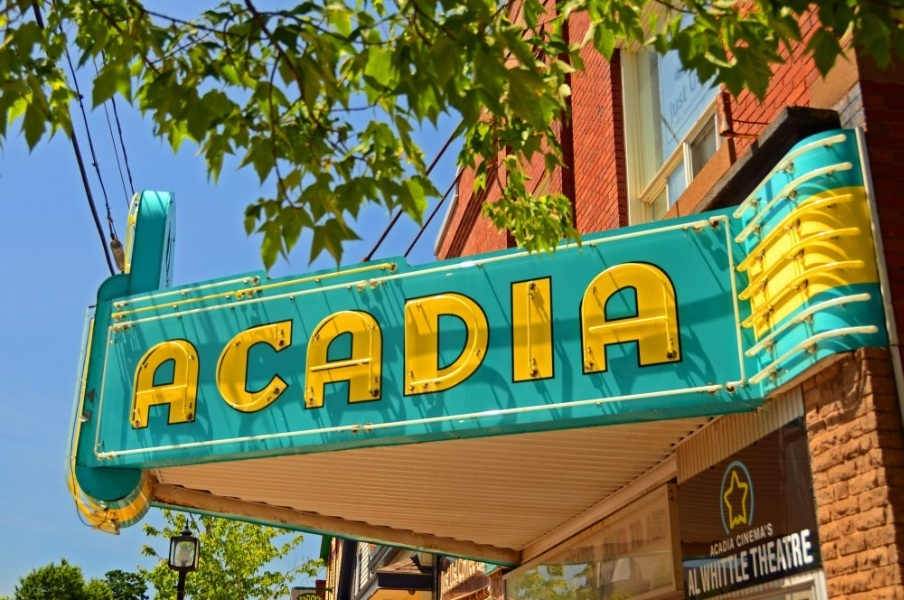text: (145, 254, 160, 432), (161, 254, 176, 432), (177, 254, 192, 432), (193, 254, 208, 432), (209, 254, 224, 432), (225, 254, 240, 432), (241, 254, 256, 432), (257, 254, 272, 432), (273, 254, 288, 432), (289, 254, 304, 432), (305, 254, 320, 432), (321, 254, 336, 432), (337, 254, 352, 432), (353, 254, 368, 432), (369, 254, 384, 432), (385, 254, 400, 432), (401, 254, 416, 432), (417, 254, 432, 432), (433, 254, 448, 432), (449, 254, 464, 432), (465, 254, 480, 432), (481, 254, 496, 432), (497, 254, 512, 432), (513, 254, 528, 432), (529, 254, 544, 432), (545, 254, 560, 432), (561, 254, 576, 432), (577, 254, 592, 432), (593, 254, 608, 432), (609, 254, 624, 432), (625, 254, 640, 432), (641, 254, 656, 432), (657, 254, 672, 432), (673, 254, 684, 432), (137, 254, 144, 432), (753, 527, 768, 579), (769, 527, 784, 579), (785, 527, 800, 579), (801, 527, 815, 579), (705, 549, 720, 594), (721, 549, 736, 594), (673, 85, 688, 130), (737, 549, 751, 594), (609, 526, 624, 565), (737, 522, 752, 548), (753, 522, 768, 548), (689, 568, 702, 598), (629, 519, 640, 552), (721, 537, 736, 558), (601, 526, 608, 565), (699, 549, 704, 594), (710, 537, 720, 558), (625, 526, 630, 565), (749, 527, 752, 579), (669, 85, 672, 130), (641, 519, 645, 552), (769, 522, 774, 548)
